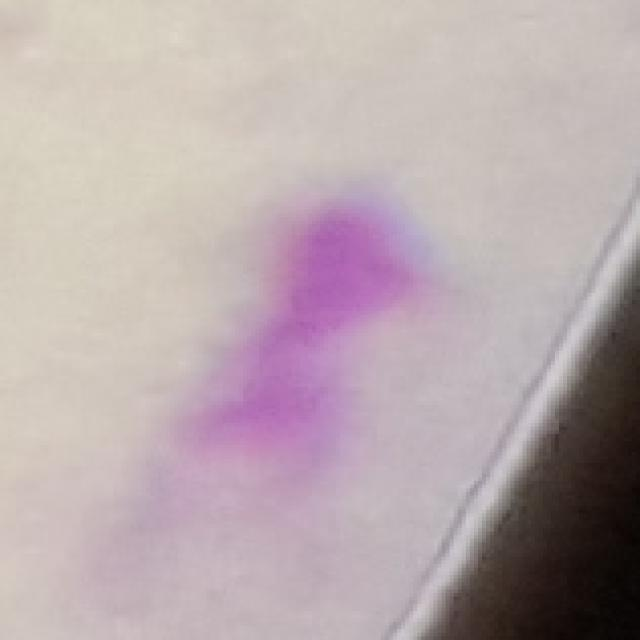non-sperm: (179, 195, 414, 457)
